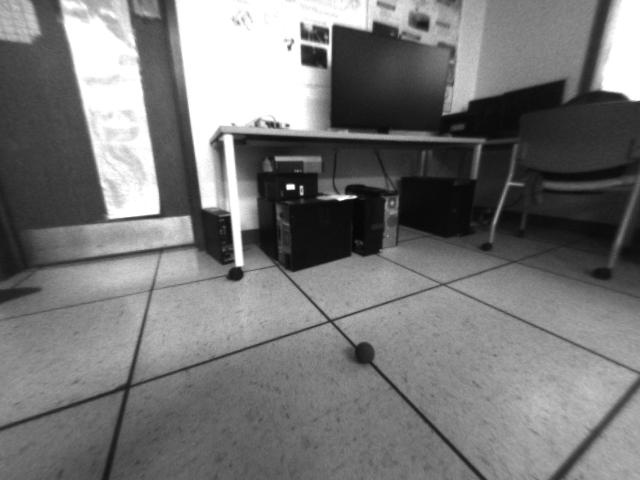dogtoy: (348, 335, 381, 369)
